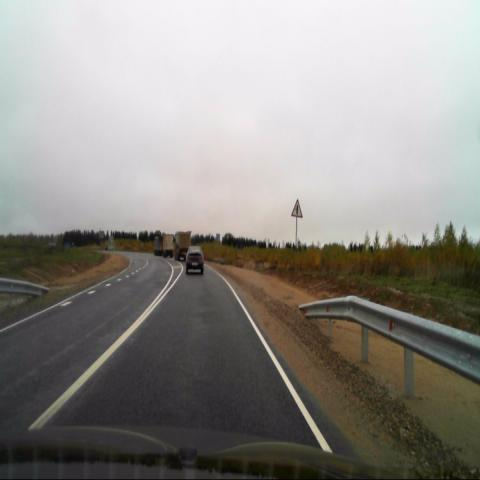2_3_3: (290, 198, 302, 218)
